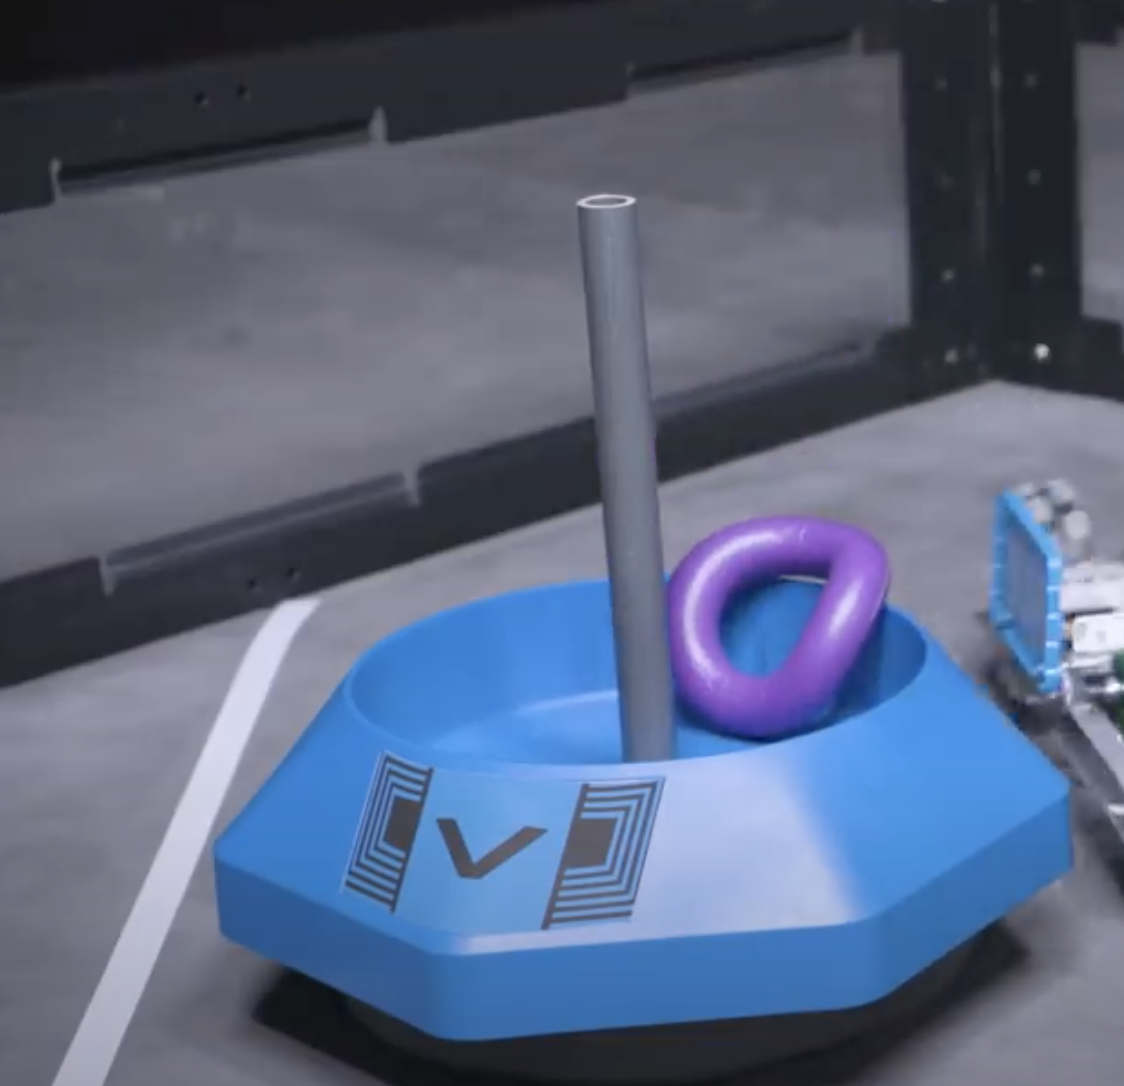ring: (665, 513, 891, 738)
